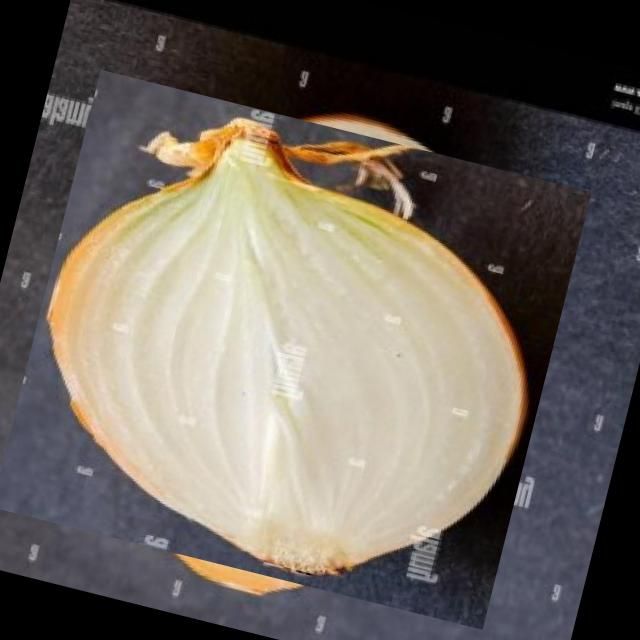Onion: (0, 59, 581, 640)
